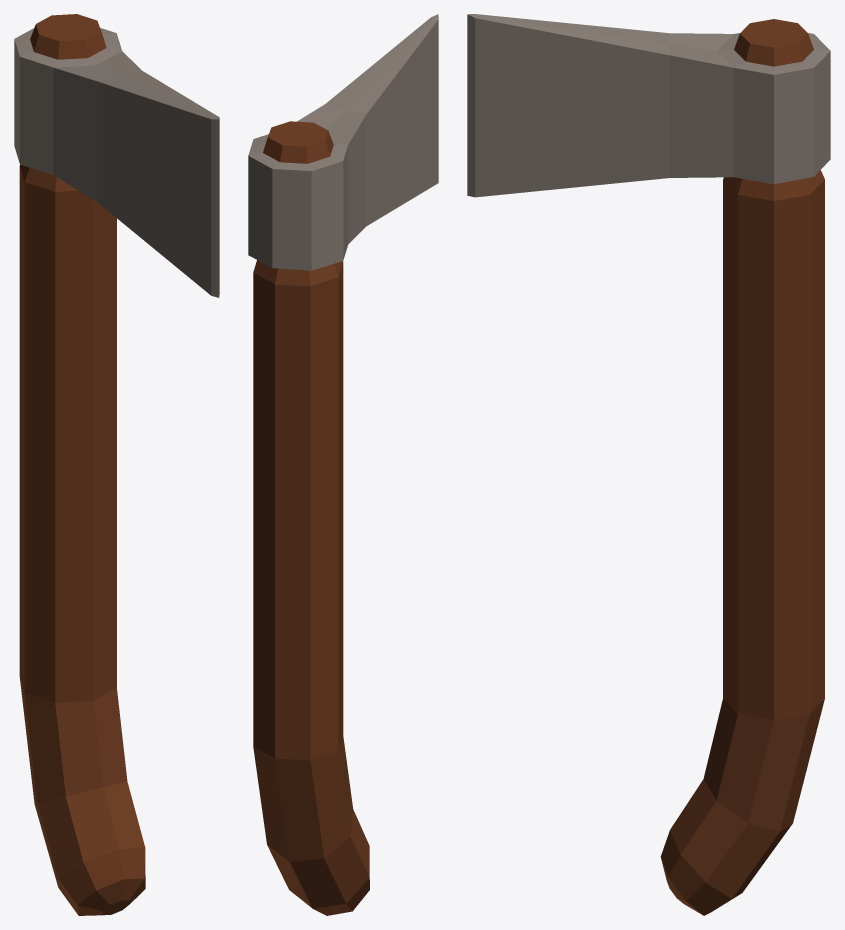
Rendered from axe.fbx.
3 views of the same model, side by side, from view 1: azimuth 30°, elevation 25°; view 2: azimuth 150°, elevation 25°; view 3: azimuth 270°, elevation 25° (orthographic). The views are drawn at different scales.
Visible parts, largest first — view 1: Cube; view 2: Cube; view 3: Cube.
Boxes of the visible parts, bbox=[...] form: Cube: bbox=[14, 14, 219, 915]; Cube: bbox=[248, 14, 438, 915]; Cube: bbox=[467, 14, 830, 915].
Size of the model in its own units: 37.3 by 326 by 119.
Materials: 1 (1 with a texture image).
